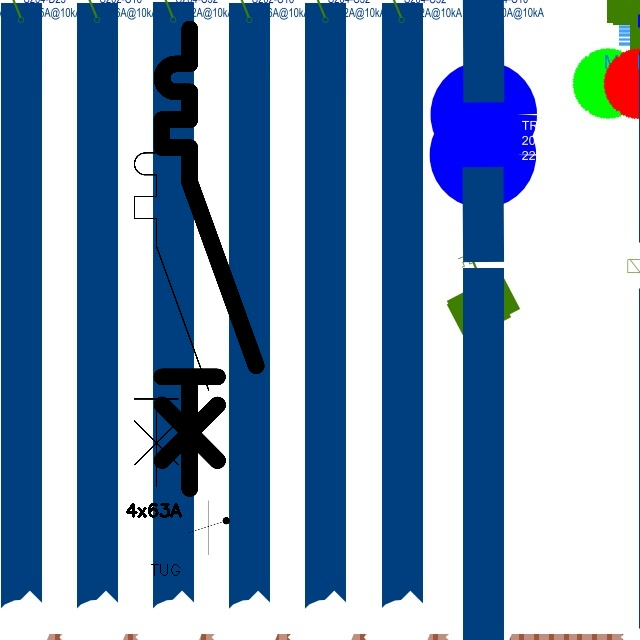interruptor_termomagnetico: (150, 17, 268, 500), (125, 116, 218, 496)
